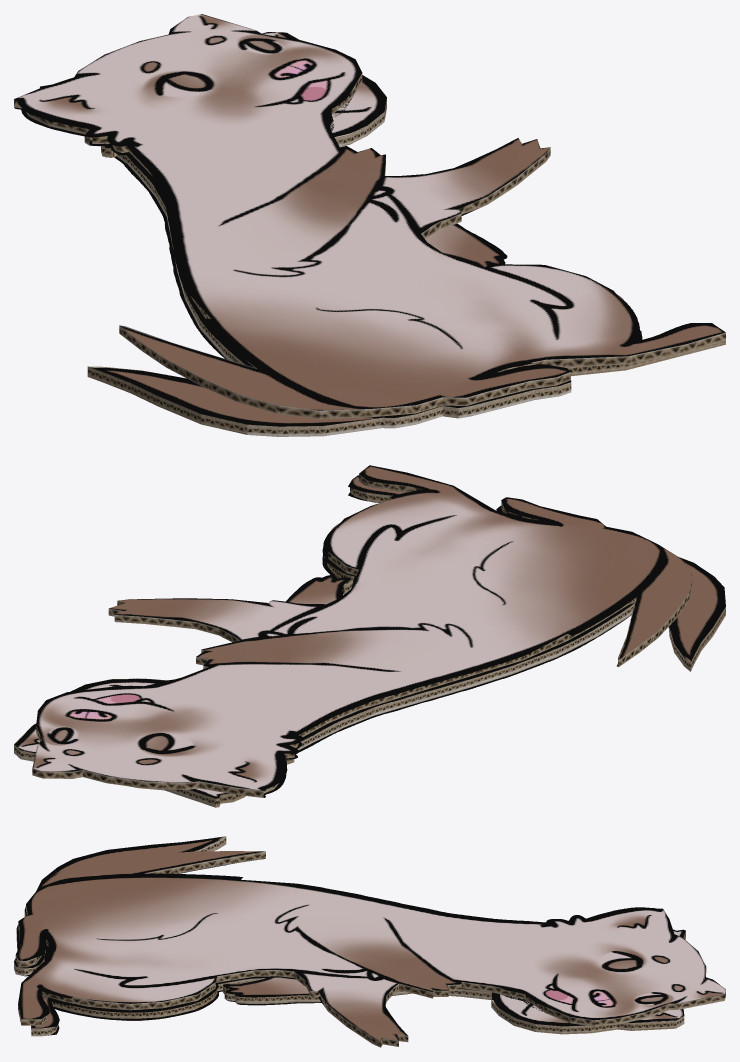
The model's file is Sprite_Basic_Full.fbx.
3 renders of one model, top to bottom at view 1: azimuth 30°, elevation 25°; view 2: azimuth 150°, elevation 25°; view 3: azimuth 270°, elevation 25°, orthographic. The views are drawn at different scales.
Parts seen in each view (by area): view 1: Plane.001, Plane; view 2: Plane.001, Plane; view 3: Plane.001, Plane.
Part boxes in pixels (box(x1,y1,x2,y2)): Plane.001: box(14, 14, 725, 418); Plane: box(39, 32, 725, 436); Plane.001: box(32, 465, 692, 797); Plane: box(14, 475, 725, 807); Plane.001: box(15, 851, 725, 1047); Plane: box(14, 836, 685, 1036).
Bounding box in the file's own units: 284 × 9 × 404.
